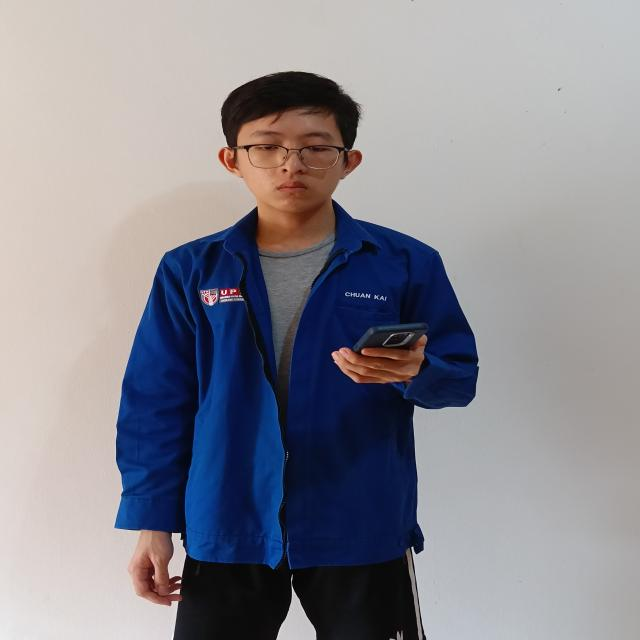person_with_labcoat: (116, 72, 478, 640)
